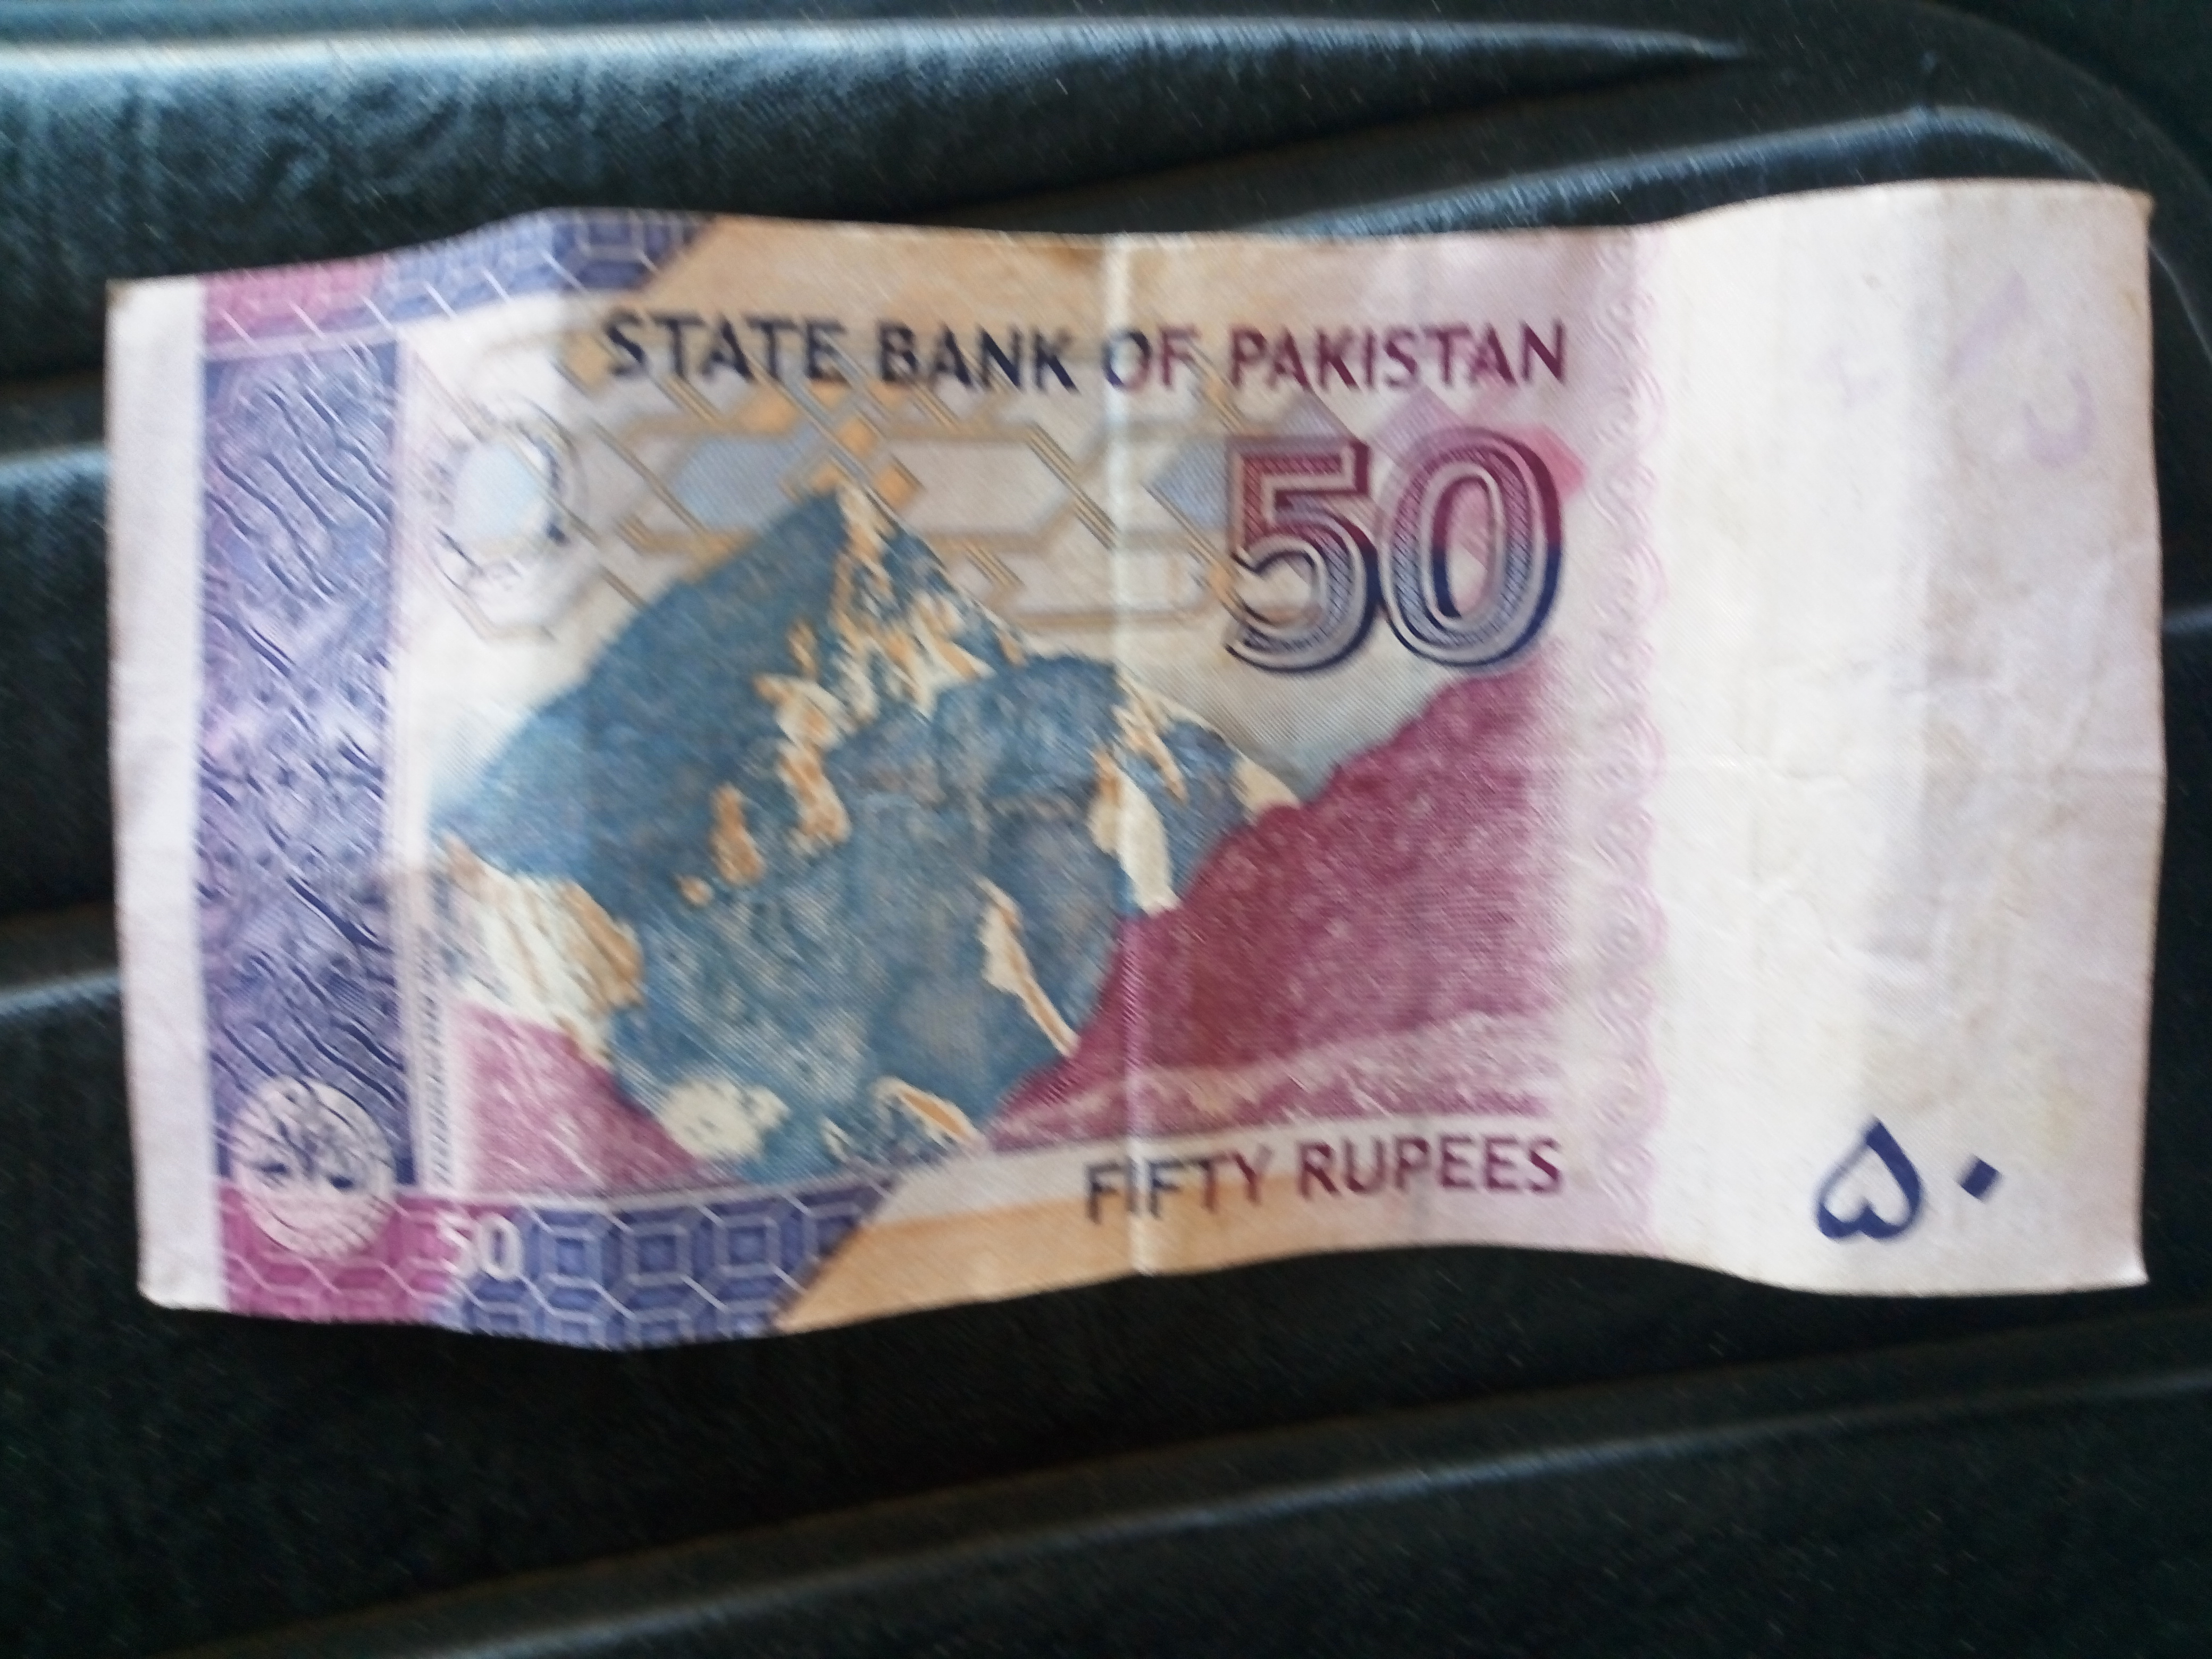50 rupee: (82, 200, 2144, 1436)
